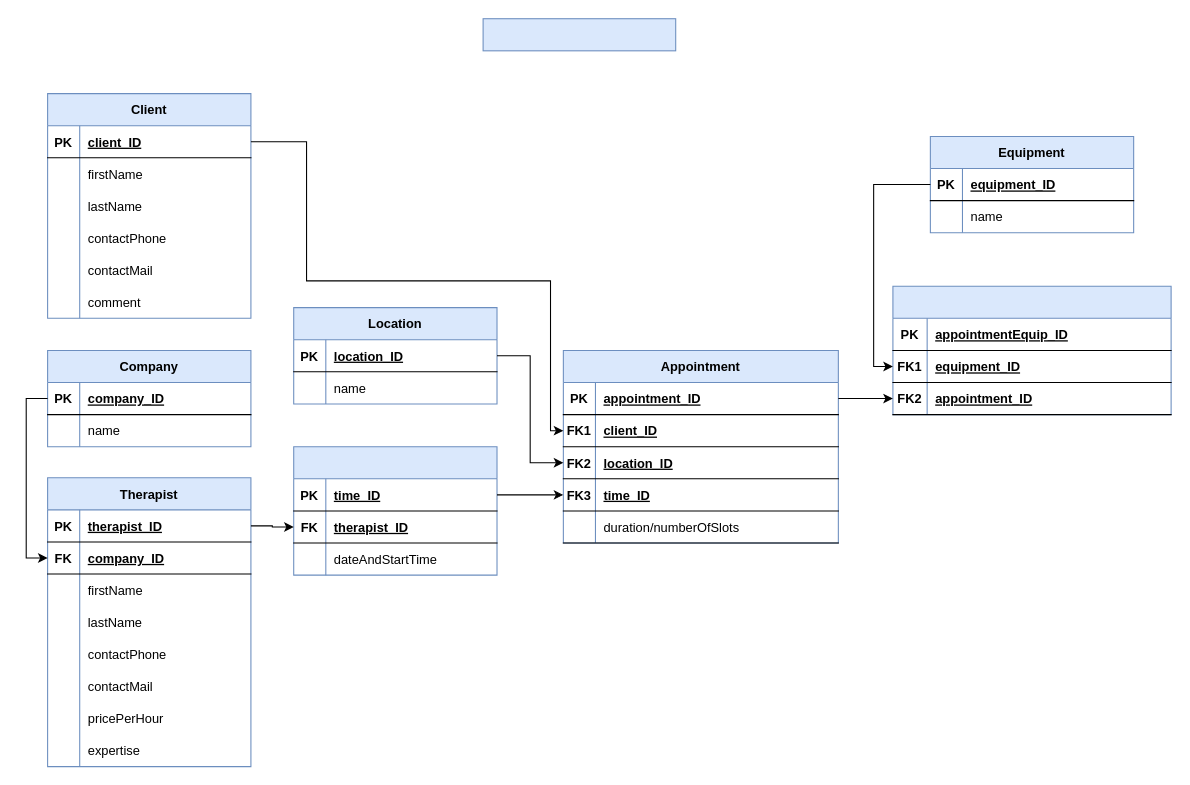
This 1190x785 diagram has some shape labels left out. Each missing label, with the box of its shape:
Appointments+Equipment: (892, 285, 1171, 415)
DATABASE DESIGN: (482, 18, 676, 51)
Timetable: (293, 446, 497, 575)
